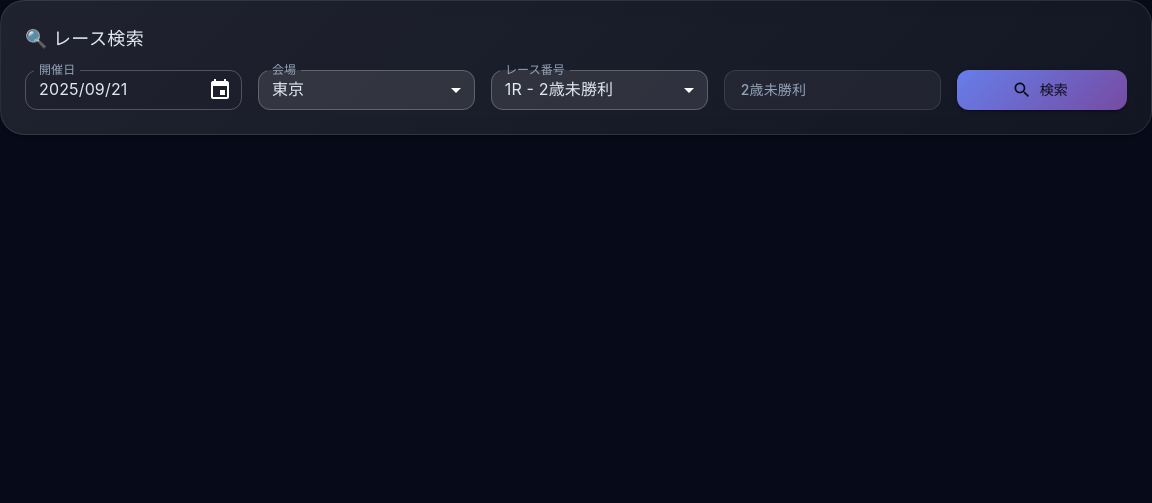
Scenario: SearchArea › 会場選択が動作すること
Click the dropdown labelled "東京" at (288, 89), box x1=272 y1=79 x2=304 y2=99
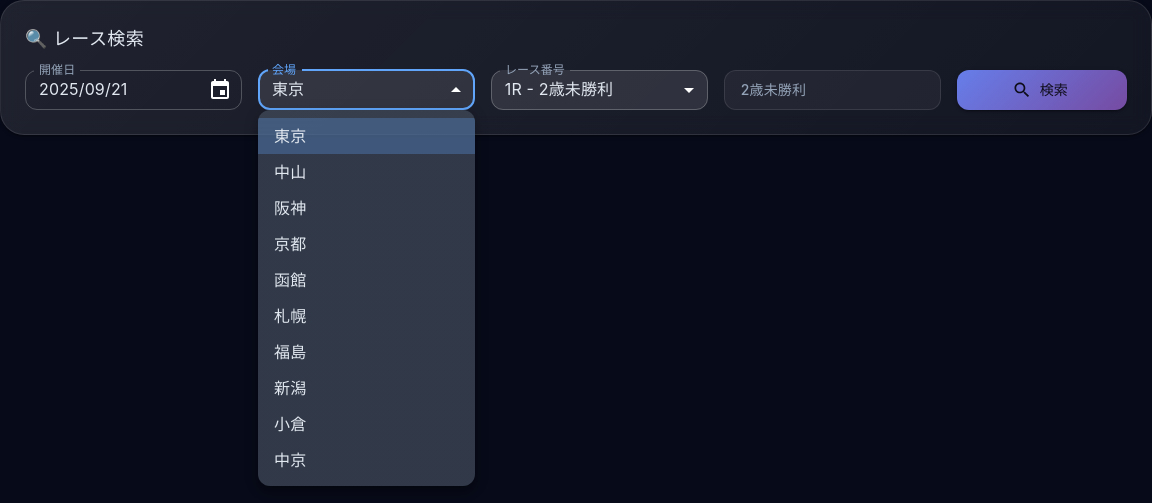
Check: the option "中山" is shown, box x1=274 y1=162 x2=306 y2=182
Check: the option "阪神" is shown, box x1=274 y1=198 x2=306 y2=218
Check: the option "京都" is shown, box x1=274 y1=234 x2=306 y2=254
